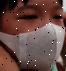with_mask: (2, 2, 66, 71)
